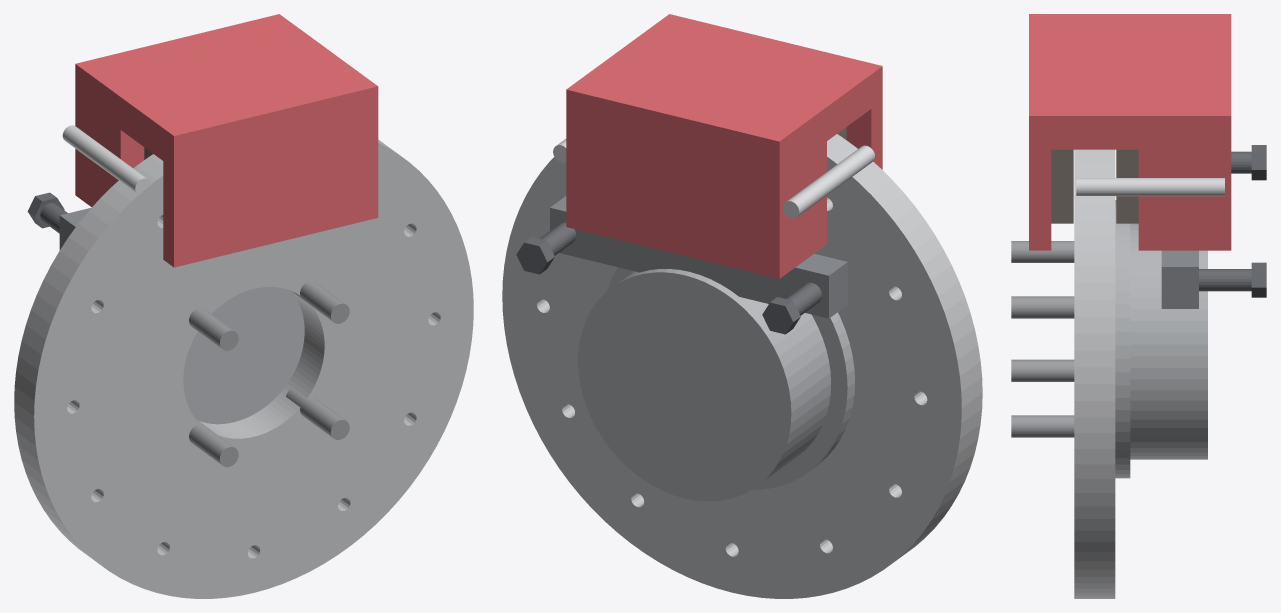
Rendered from freno_disco.glb.
3 views of the same model, side by side, from view 1: azimuth 30°, elevation 25°; view 2: azimuth 150°, elevation 25°; view 3: azimuth 270°, elevation 25° (orthographic). The views are drawn at different scales.
Parts seen in each view (by area): view 1: disco, cuerpo_pinza, cubo, pasador_guia_1, esparrago_4, esparrago_1, esparrago_3, esparrago_2, tornillo_soporte_1; view 2: disco, cuerpo_pinza, cubo, soporte_pinza, pasador_guia_1, tornillo_soporte_1, tornillo_soporte_2; view 3: cuerpo_pinza, disco, cubo, pasador_guia_2, soporte_pinza, tornillo_soporte_2, pastilla_externa, esparrago_1, esparrago_4, esparrago_3, pastilla_interna, esparrago_2 (+1 smaller).
Part boxes in pixels (x1,y1,x2,y2): disco: (14,139,473,598); cuerpo_pinza: (75,14,378,267); cubo: (183,287,304,424); pasador_guia_1: (62,125,150,193); esparrago_4: (286,388,349,439); esparrago_1: (291,281,349,323); esparrago_3: (189,420,238,467); esparrago_2: (189,308,238,350); tornillo_soporte_1: (27,192,67,233); disco: (502,134,982,598); cuerpo_pinza: (566,14,882,278); cubo: (578,267,854,501); soporte_pinza: (550,196,847,318); pasador_guia_1: (783,145,874,218); tornillo_soporte_1: (762,282,822,334); tornillo_soporte_2: (516,222,576,274); cuerpo_pinza: (1029,14,1231,250); disco: (1074,149,1115,598); cubo: (1115,200,1207,478); pasador_guia_2: (1076,178,1224,196); soporte_pinza: (1161,250,1198,308); tornillo_soporte_2: (1199,262,1266,297); pastilla_externa: (1051,149,1073,223); esparrago_1: (1011,296,1074,318); esparrago_4: (1011,415,1074,437); esparrago_3: (1011,359,1074,381); pastilla_interna: (1116,149,1138,223); esparrago_2: (1011,241,1074,262).
Size of the model in its own units: 0.28 by 0.303 by 0.1375.
